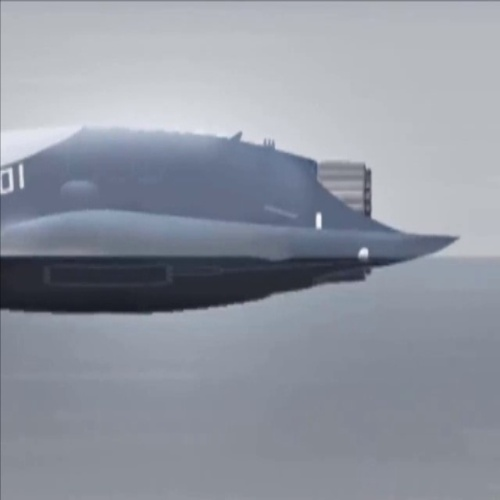uav: (1, 119, 464, 321)
